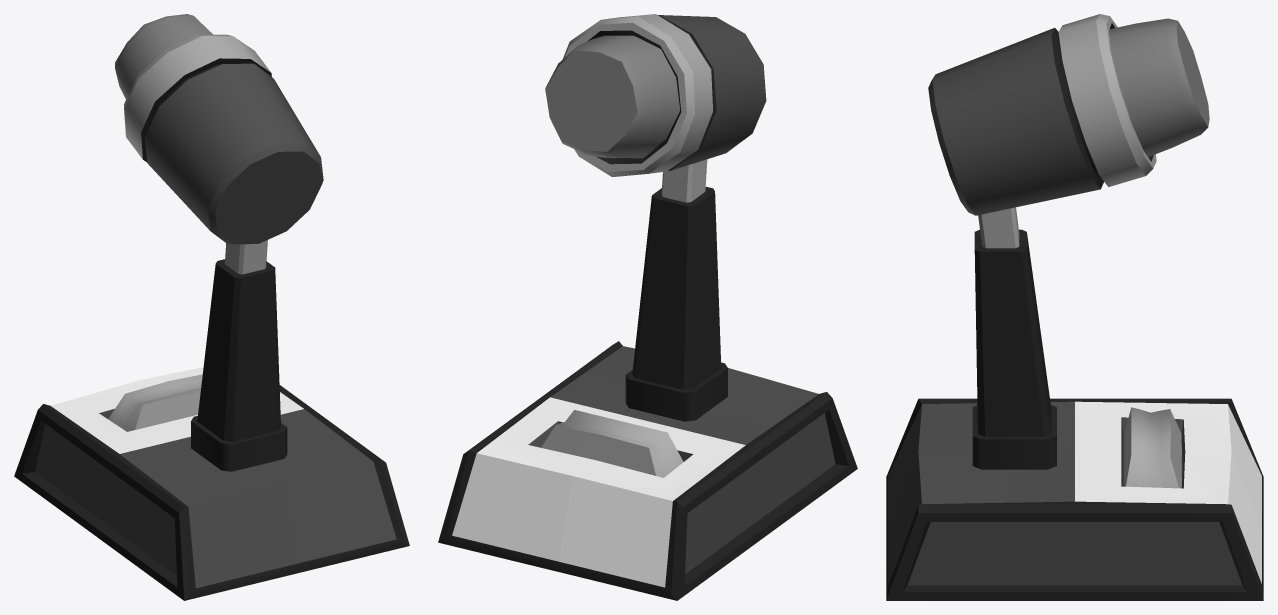
Rendered from Microphone.fbx.
3 views of the same model, side by side, from view 1: azimuth 30°, elevation 25°; view 2: azimuth 150°, elevation 25°; view 3: azimuth 270°, elevation 25° (orthographic). The views are drawn at different scales.
Parts seen in each view (by area): view 1: Microphone; view 2: Microphone; view 3: Microphone.
Part boxes in pixels (bbox=[...]): Microphone: bbox=[14, 14, 409, 600]; Microphone: bbox=[438, 14, 857, 600]; Microphone: bbox=[886, 14, 1263, 600].
Bounding box in the file's own units: 1.01 × 2 × 1.32.
